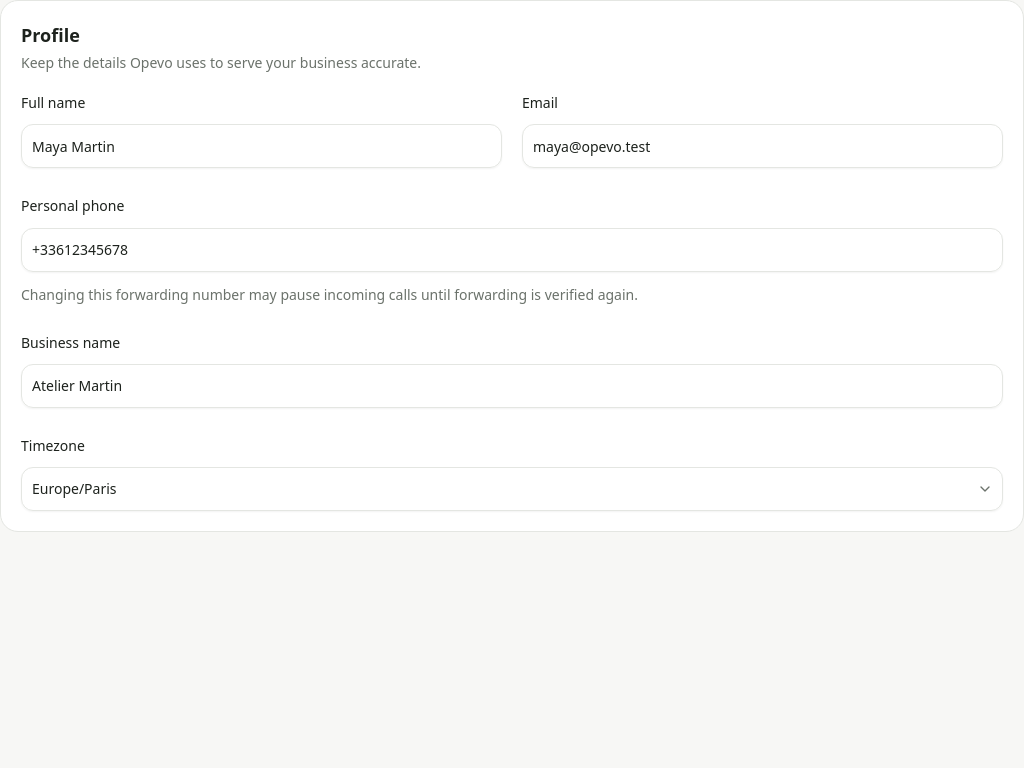
account profile form › restores the confirmed baseline when the draft is discarded
Step 1. Replace the text in the field labelled "Business name" with "Atelier Opevo" → (512, 386), box 21,364 -> 1003,408
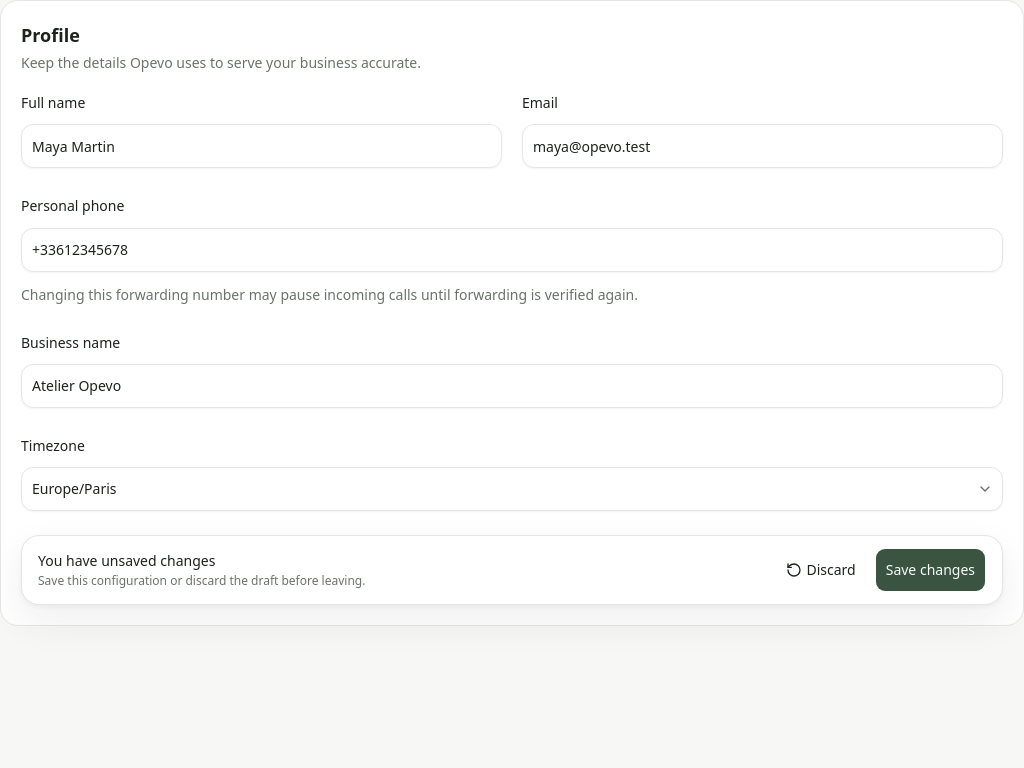
Step 2. Click the button "Discard" → (823, 570), box 780,548 -> 867,592
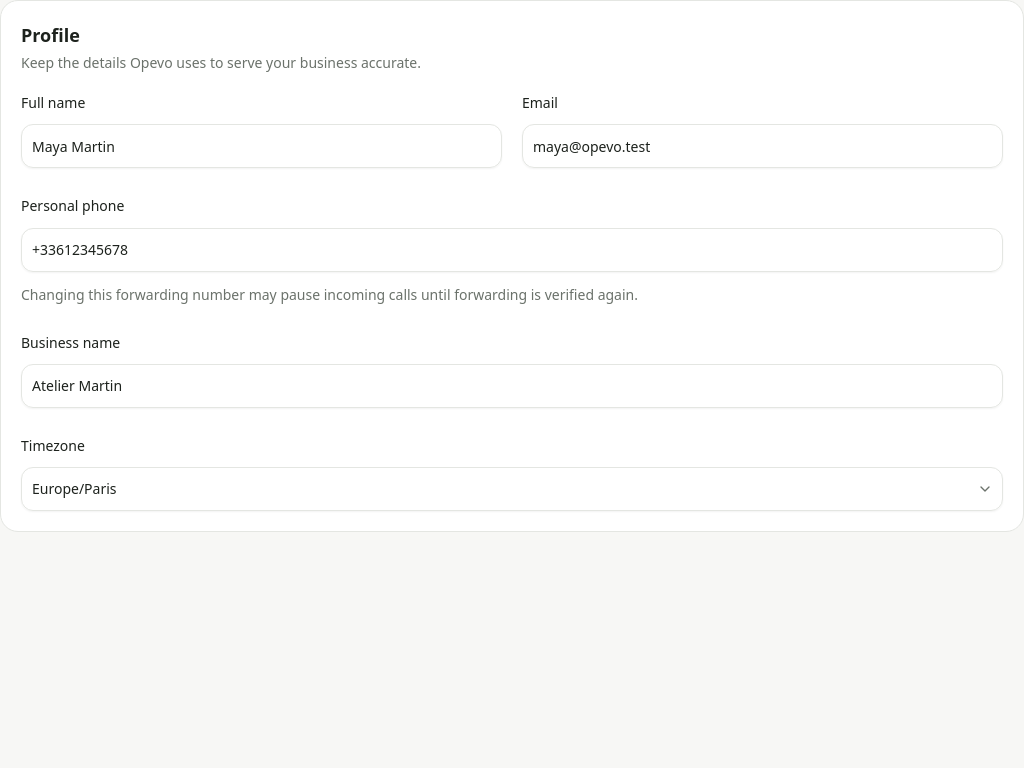
Result: the field labelled "Business name" holds "Atelier Martin" at 21,364 -> 1003,408
Result: the text "unsaved changes" is gone
